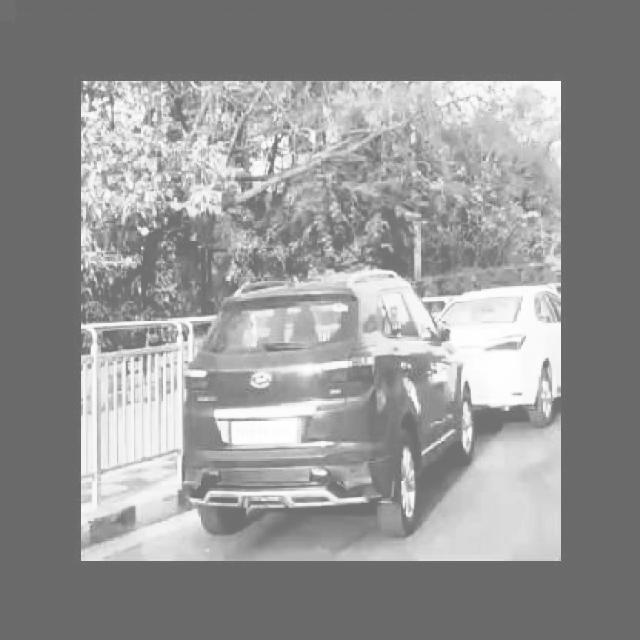Car: (164, 265, 480, 547), (466, 278, 556, 434)
